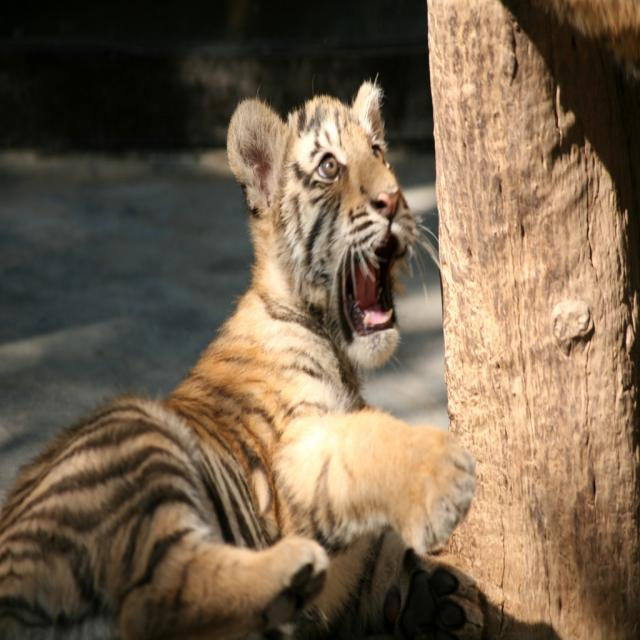Tiger: (0, 68, 480, 640)
